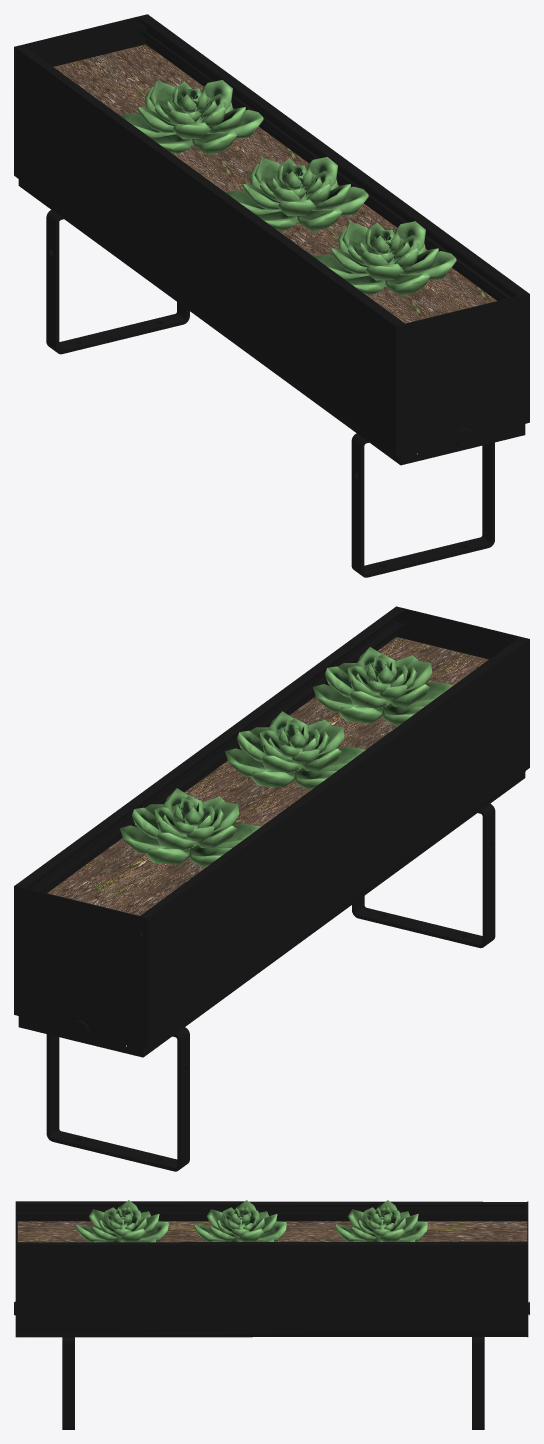
File: largo_floor_mid.glb
3 renders of one model, top to bottom at view 1: azimuth 30°, elevation 25°; view 2: azimuth 150°, elevation 25°; view 3: azimuth 270°, elevation 25°, orthographic. The views are drawn at different scales.
Parts seen in each view (by area): view 1: ext, flat_cover_side_ext_7-4-24.001, Plane.001, succulent plant.002, succulent plant, succulent plant.001, ext_floor_middel_size, ext_floor_middel_size.001, flat_cover_side_ext_7-4-24; view 2: ext, flat_cover_side_ext_7-4-24, Plane.001, succulent plant.002, succulent plant, succulent plant.001, ext_floor_middel_size.001, ext_floor_middel_size, flat_cover_side_ext_7-4-24.001; view 3: ext, Plane.001, succulent plant.001, succulent plant, succulent plant.002, ext_floor_middel_size.001, ext_floor_middel_size.
Part boxes in pixels (x1,y1,x2,y2): ext: [14, 15, 528, 464]; flat_cover_side_ext_7-4-24.001: [395, 293, 529, 465]; Plane.001: [53, 44, 496, 342]; succulent plant.002: [120, 80, 263, 155]; succulent plant: [225, 157, 368, 232]; succulent plant.001: [314, 221, 456, 296]; ext_floor_middel_size: [351, 433, 494, 577]; ext_floor_middel_size.001: [46, 210, 189, 354]; flat_cover_side_ext_7-4-24: [14, 14, 148, 185]; ext: [15, 607, 529, 1056]; flat_cover_side_ext_7-4-24: [14, 885, 148, 1057]; Plane.001: [47, 637, 488, 934]; succulent plant.002: [120, 788, 260, 866]; succulent plant: [225, 711, 365, 789]; succulent plant.001: [313, 647, 453, 725]; ext_floor_middel_size.001: [46, 1027, 189, 1171]; ext_floor_middel_size: [352, 803, 495, 948]; flat_cover_side_ext_7-4-24.001: [396, 606, 529, 777]; ext: [16, 1201, 527, 1337]; Plane.001: [17, 1221, 527, 1242]; succulent plant.001: [76, 1200, 168, 1242]; succulent plant: [194, 1200, 286, 1241]; succulent plant.002: [335, 1200, 427, 1241]; ext_floor_middel_size.001: [472, 1337, 484, 1429]; ext_floor_middel_size: [62, 1337, 74, 1429].
Size of the model in its own units: 2.03 by 4.33 by 10.1.
3 materials, 2 textured.
